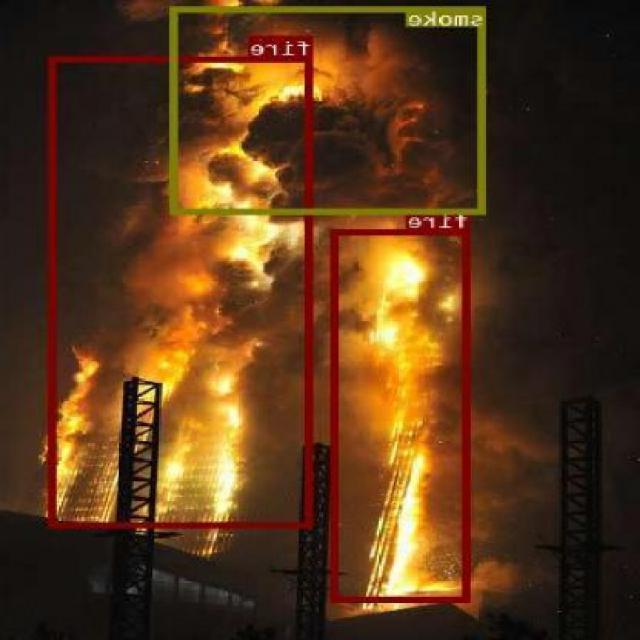Fire: (50, 55, 335, 503), (322, 236, 460, 586), (220, 7, 377, 125)
Smoke: (235, 90, 405, 422)
